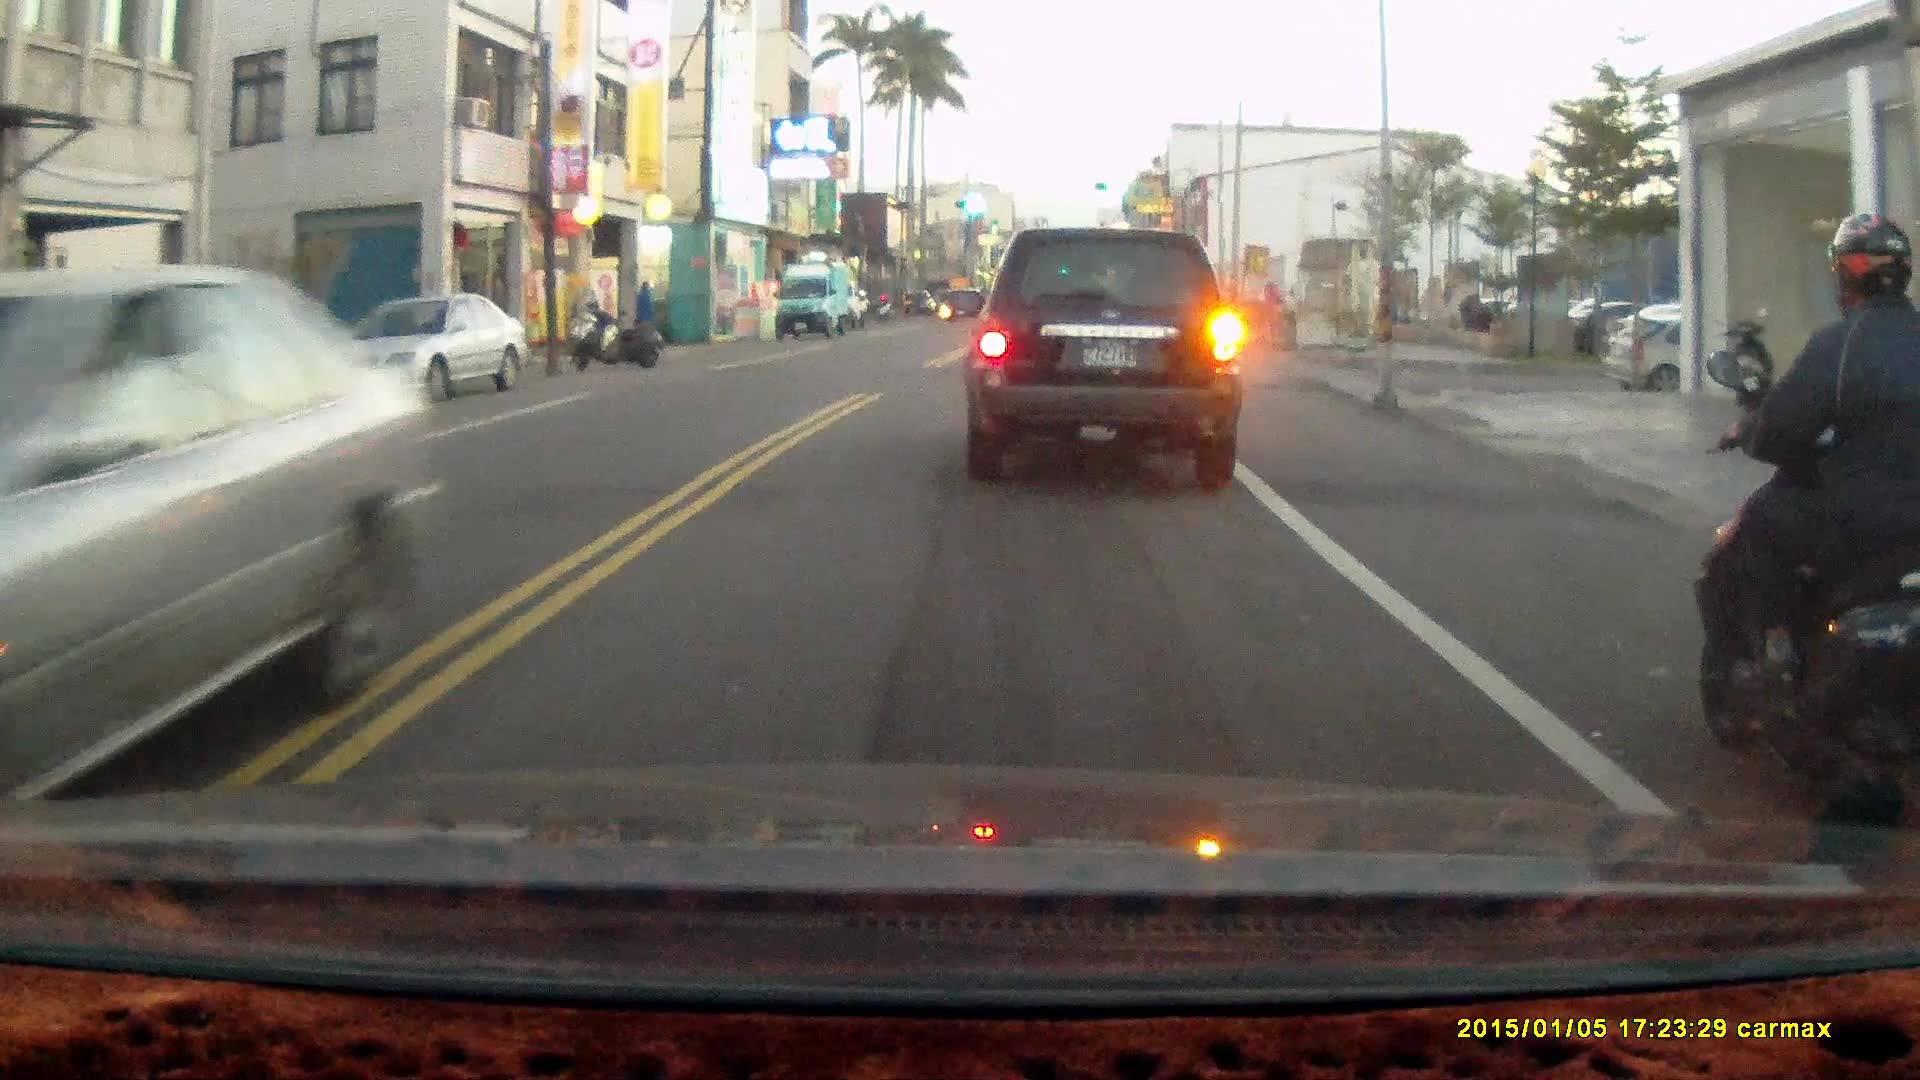pedestrian: (629, 273, 658, 352)
rider: (1684, 208, 1920, 844)
vehicle: (1, 266, 413, 816), (973, 223, 1249, 491), (296, 290, 529, 408), (1605, 317, 1824, 403), (773, 262, 860, 342)
